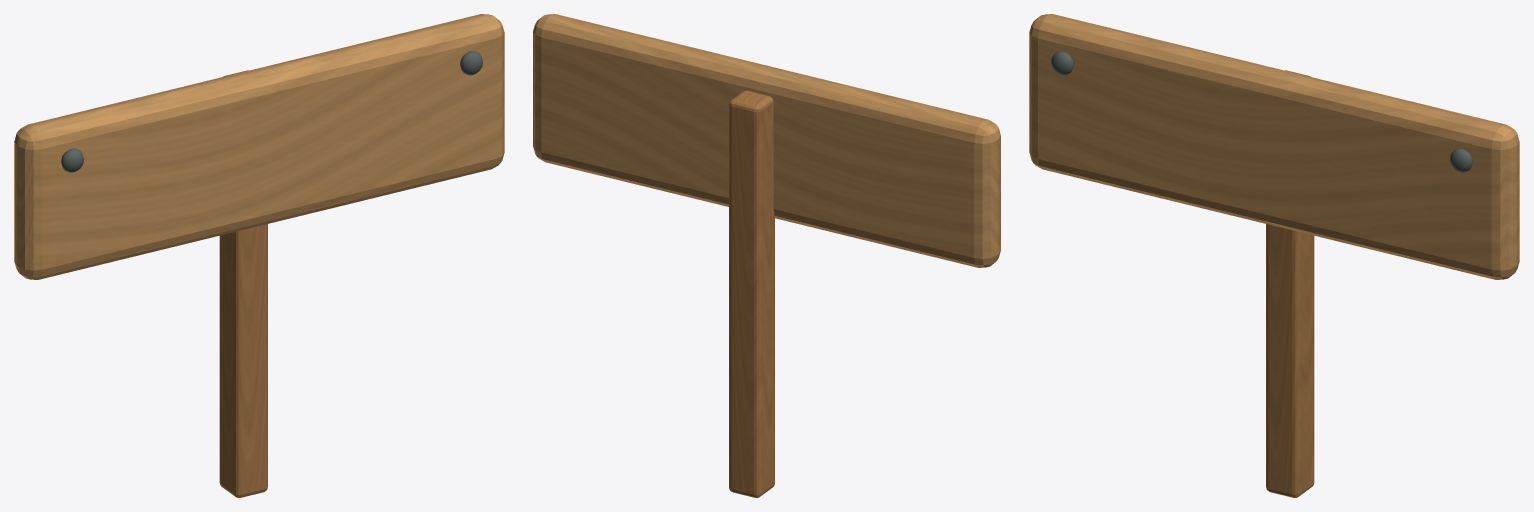
File: plot-sign.glb
The picture shows the model from 3 angles, left to right: view 1: azimuth 30°, elevation 25°; view 2: azimuth 150°, elevation 25°; view 3: azimuth 330°, elevation 25°; orthographic projection. The views are drawn at different scales.
Visible parts, largest first — view 1: plot_sign; view 2: plot_sign; view 3: plot_sign.
Part boxes in pixels (<box>): plot_sign: <box>14,14,504,497</box>; plot_sign: <box>533,14,1000,497</box>; plot_sign: <box>1029,14,1519,497</box>.
Bounding box in the file's own units: 0.8 × 0.68 × 0.1205.
3 materials, 2 textured.
